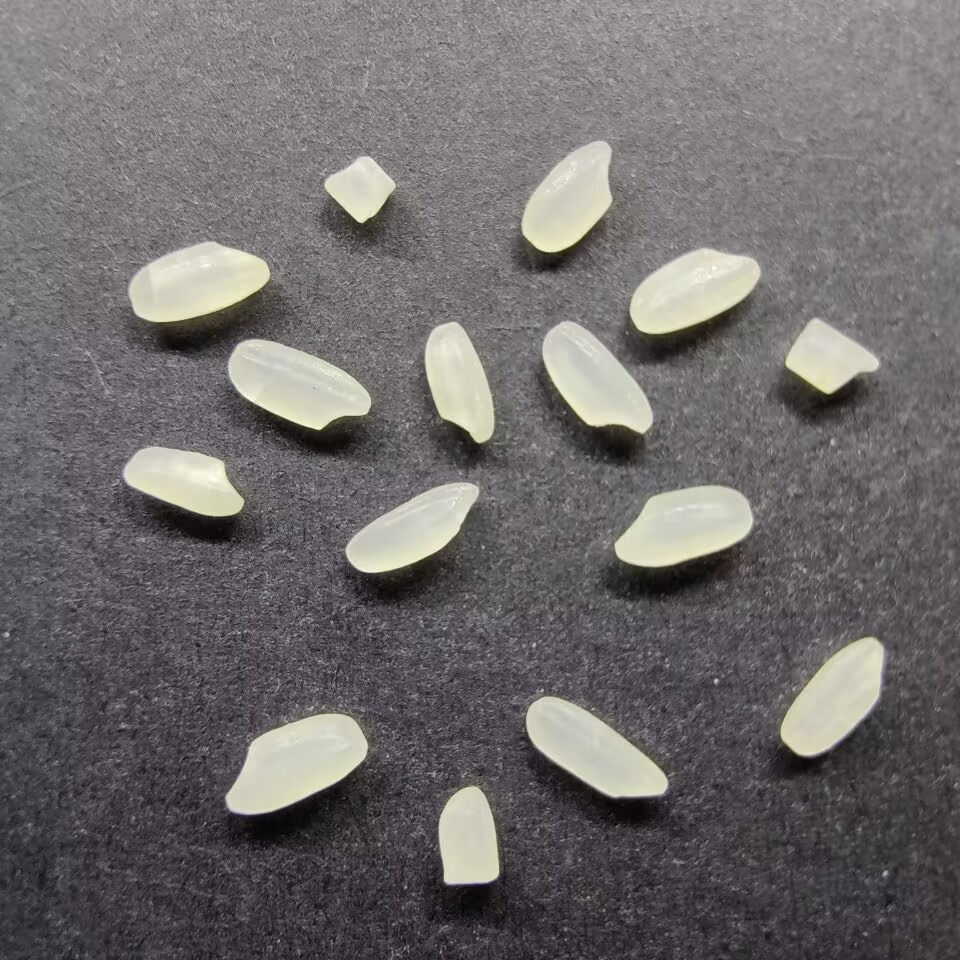broken: (781, 316, 881, 396), (436, 783, 500, 888), (321, 153, 398, 225)
rice: (523, 694, 669, 800), (222, 711, 368, 816), (227, 336, 372, 432), (541, 319, 655, 436), (342, 479, 480, 575), (778, 635, 885, 758), (611, 483, 754, 570), (627, 244, 759, 336), (126, 239, 270, 323), (519, 138, 616, 253), (120, 445, 246, 518), (423, 321, 496, 444)
